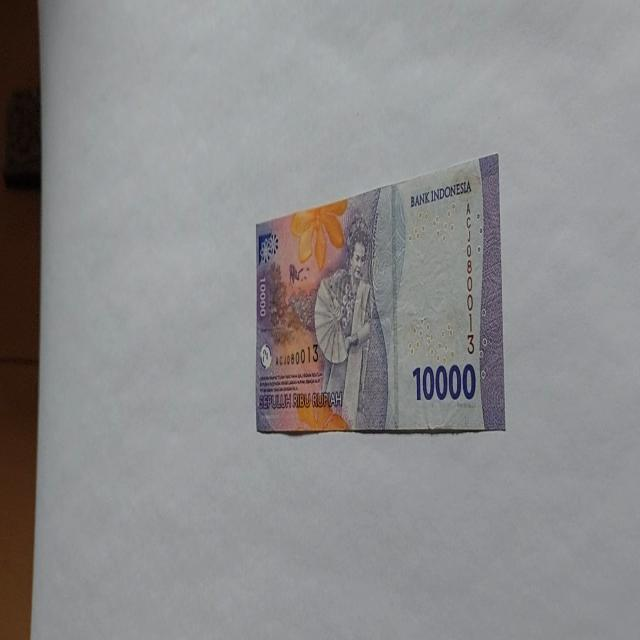sepuluh ribu rupiah: (254, 151, 506, 436), (409, 177, 472, 208)
